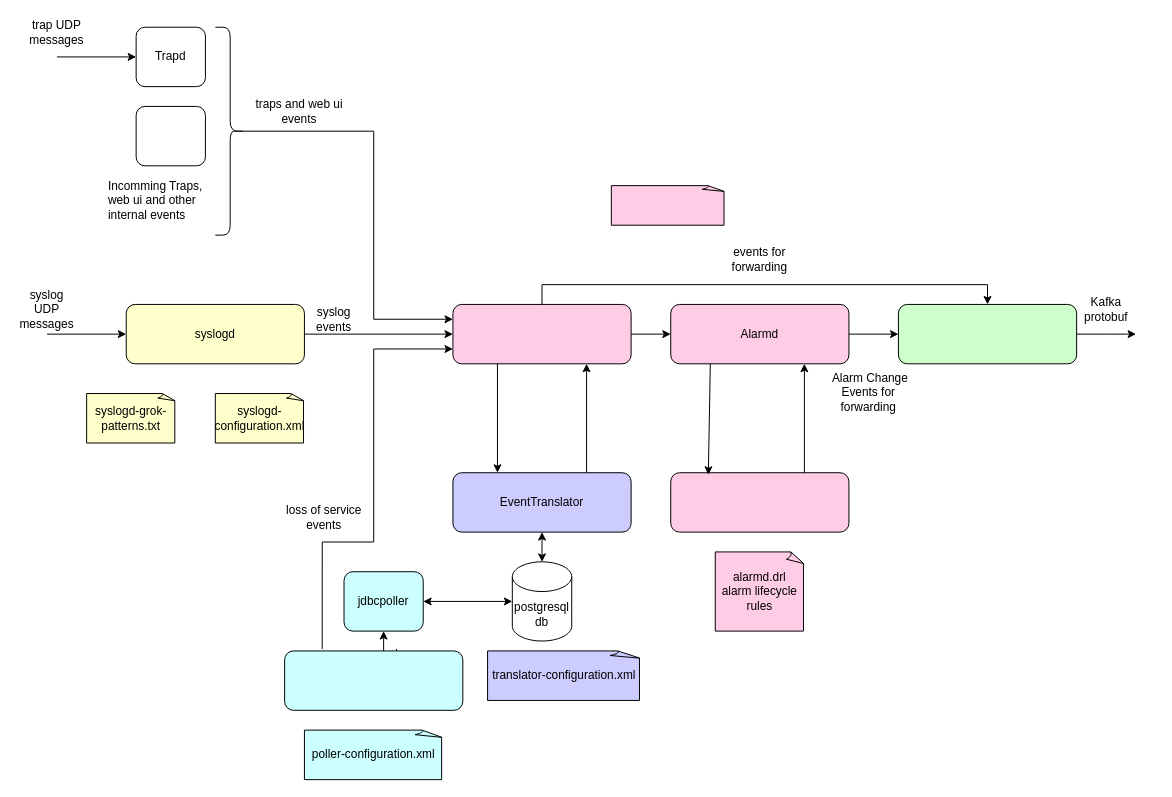
Image size: 1172x797. Some labels were removed from this diagram. The box of each missing label's shape, as (x1, y1, x2, y2) in pixels:
Alarmd Drools: (670, 472, 849, 532)
eventconf.xml: (610, 185, 725, 225)
Eventd: (452, 303, 631, 364)
Kafka Forwarder: (897, 303, 1077, 364)
pollerd: (284, 650, 463, 710)
Web UI: (135, 105, 205, 166)
